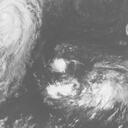cyclone: (46, 57, 105, 111)
